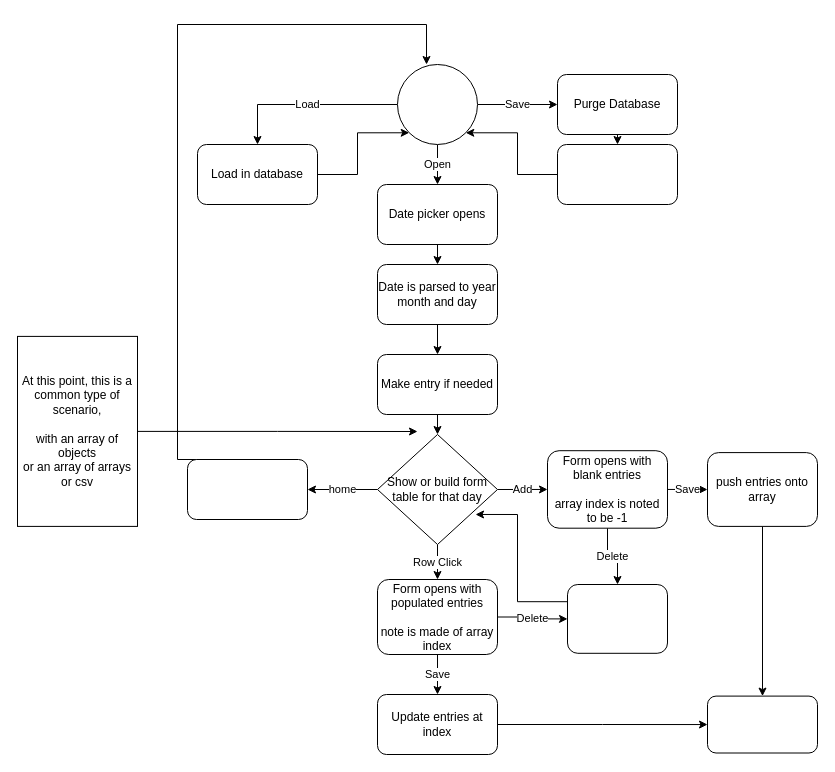
Image size: 835x772. Some labels were removed from this diagram. Here are the shapes that lost their labels. From the top down, the centre of each, then its label:
At (437,104): "Form with button and date input clicked".
At (617,174): "Save to file".
At (247,489): "stringify/parse to database".
At (617,618): "Remove array element at index if not -1".
At (762,724): "sort entries".
